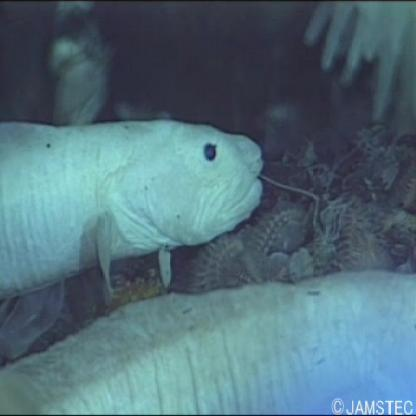Bio: (1, 110, 267, 303)
